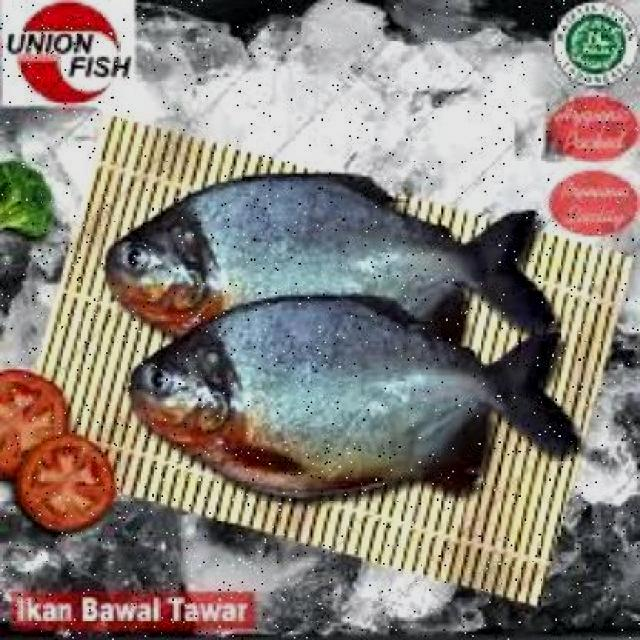ikan-pacu: (126, 296, 572, 496), (96, 178, 544, 354)
